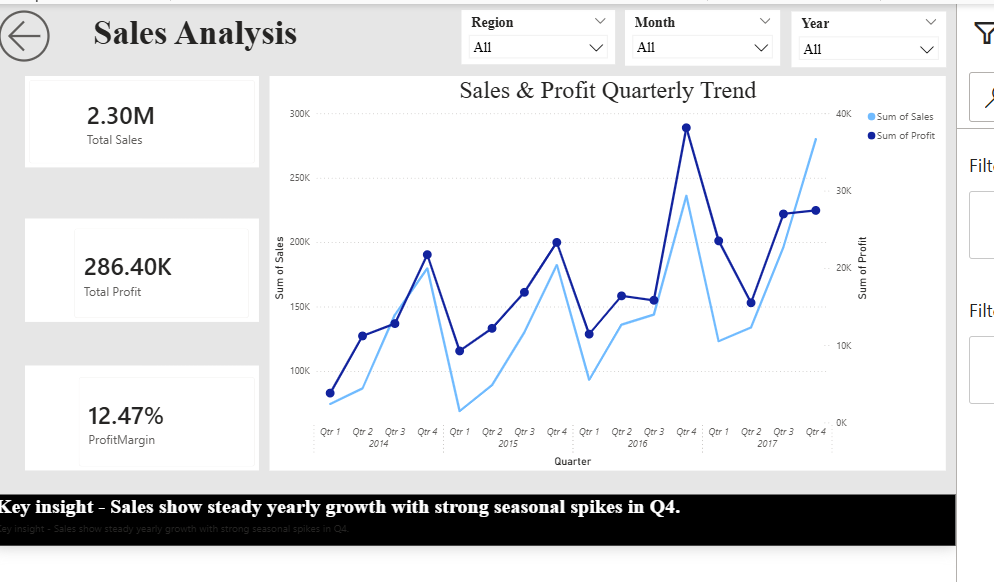

The dashboard page shown, as its layout file describes it:
{"tool":"powerbi","page":{"name":"Sales Analysis","canvas":[1280,720],"ordinal":1},"visuals":[{"type":"actionButton","box":[0,0,128.5,85],"z":0},{"type":"textbox","title":"Key insight - Sales show steady yearly growth with strong seasonal spikes in Q4.","box":[0,652,1279.4,68],"z":1000},{"type":"slicer","fields":{"Values":["cleaned_sales_data xls.OrderDate.Variation.Date Hierarchy.Year"]},"box":[1062.1,9,205,73.7],"z":2000},{"type":"slicer","fields":{"Values":["cleaned_sales_data xls.Region"]},"box":[623.6,7,204.1,71.8],"z":4000},{"type":"lineChart","title":"Sales & Profit Quarterly Trend","fields":{"Y":["Sum(cleaned_sales_data xls.Sales)"],"Y2":["Sum(cleaned_sales_data xls.Profit)"],"Category":["cleaned_sales_data xls.OrderDate.Variation.Date Hierarchy.Year","cleaned_sales_data xls.OrderDate.Variation.Date Hierarchy.Quarter"]},"box":[368.5,95.6,898.3,523.8],"z":5000},{"type":"textbox","title":"Sales Analysis","box":[128.5,11.3,353.4,94.5],"z":6000},{"type":"slicer","fields":{"Values":["cleaned_sales_data xls.OrderDate.Variation.Date Hierarchy.Month"]},"box":[841,7.6,206,73.7],"z":7000},{"type":"cardVisual","fields":{"Data":["cleaned_sales_data xls.Total Sales"]},"box":[43.8,95.6,310.7,121.5],"z":7001},{"type":"cardVisual","fields":{"Data":["cleaned_sales_data xls.Total Profit"]},"box":[43.8,284.8,310.7,137.4],"z":7002},{"type":"cardVisual","fields":{"Data":["cleaned_sales_data xls.ProfitMargin"]},"box":[43.8,480,310.7,139.4],"z":7003}]}

Visuals, with their boxes on the page's 1280x720 design canvas (x1, y1, x2, y2). These are canvas units, not pixel positions in the 994x582 screenshot, which may show the page scaled, cropped or inside an application window:
actionButton: <region>0, 0, 128, 85</region>
"Key insight - Sales show steady yearly growth with strong seasonal spikes in Q4." textbox: <region>0, 652, 1279, 720</region>
slicer - cleaned_sales_data xls.OrderDate.Variation.Date Hierarchy.Year: <region>1062, 9, 1267, 83</region>
slicer - cleaned_sales_data xls.Region: <region>624, 7, 828, 79</region>
"Sales & Profit Quarterly Trend" lineChart: <region>368, 96, 1267, 619</region>
"Sales Analysis" textbox: <region>128, 11, 482, 106</region>
slicer - cleaned_sales_data xls.OrderDate.Variation.Date Hierarchy.Month: <region>841, 8, 1047, 81</region>
cardVisual - cleaned_sales_data xls.Total Sales: <region>44, 96, 354, 217</region>
cardVisual - cleaned_sales_data xls.Total Profit: <region>44, 285, 354, 422</region>
cardVisual - cleaned_sales_data xls.ProfitMargin: <region>44, 480, 354, 619</region>
